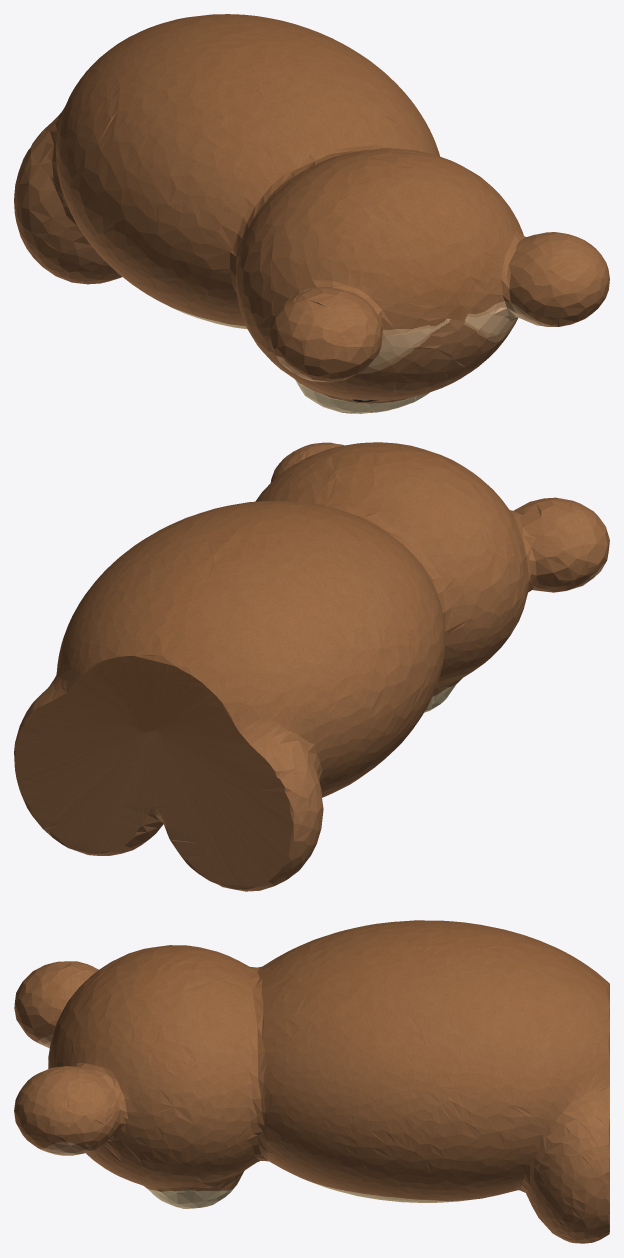
The model's file is bear.obj.
3 views of the same model, one above another, from view 1: azimuth 30°, elevation 25°; view 2: azimuth 150°, elevation 25°; view 3: azimuth 270°, elevation 25° (orthographic). The views are drawn at different scales.
Bounding box in the file's own units: 0.2875 × 0.2341 × 0.4802.
Materials: 1 (1 with a texture image).
